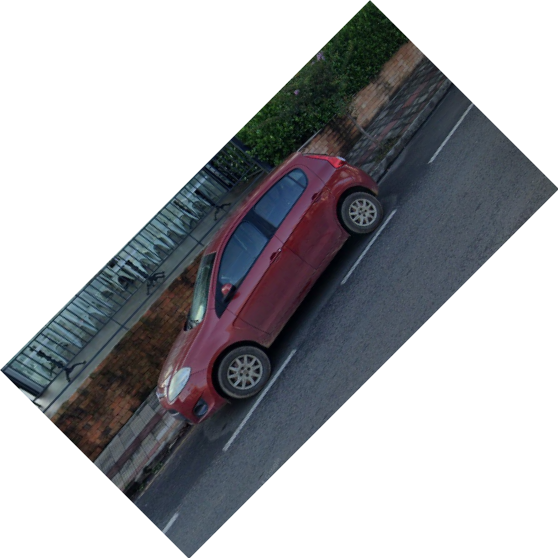car: (150, 144, 383, 430)
